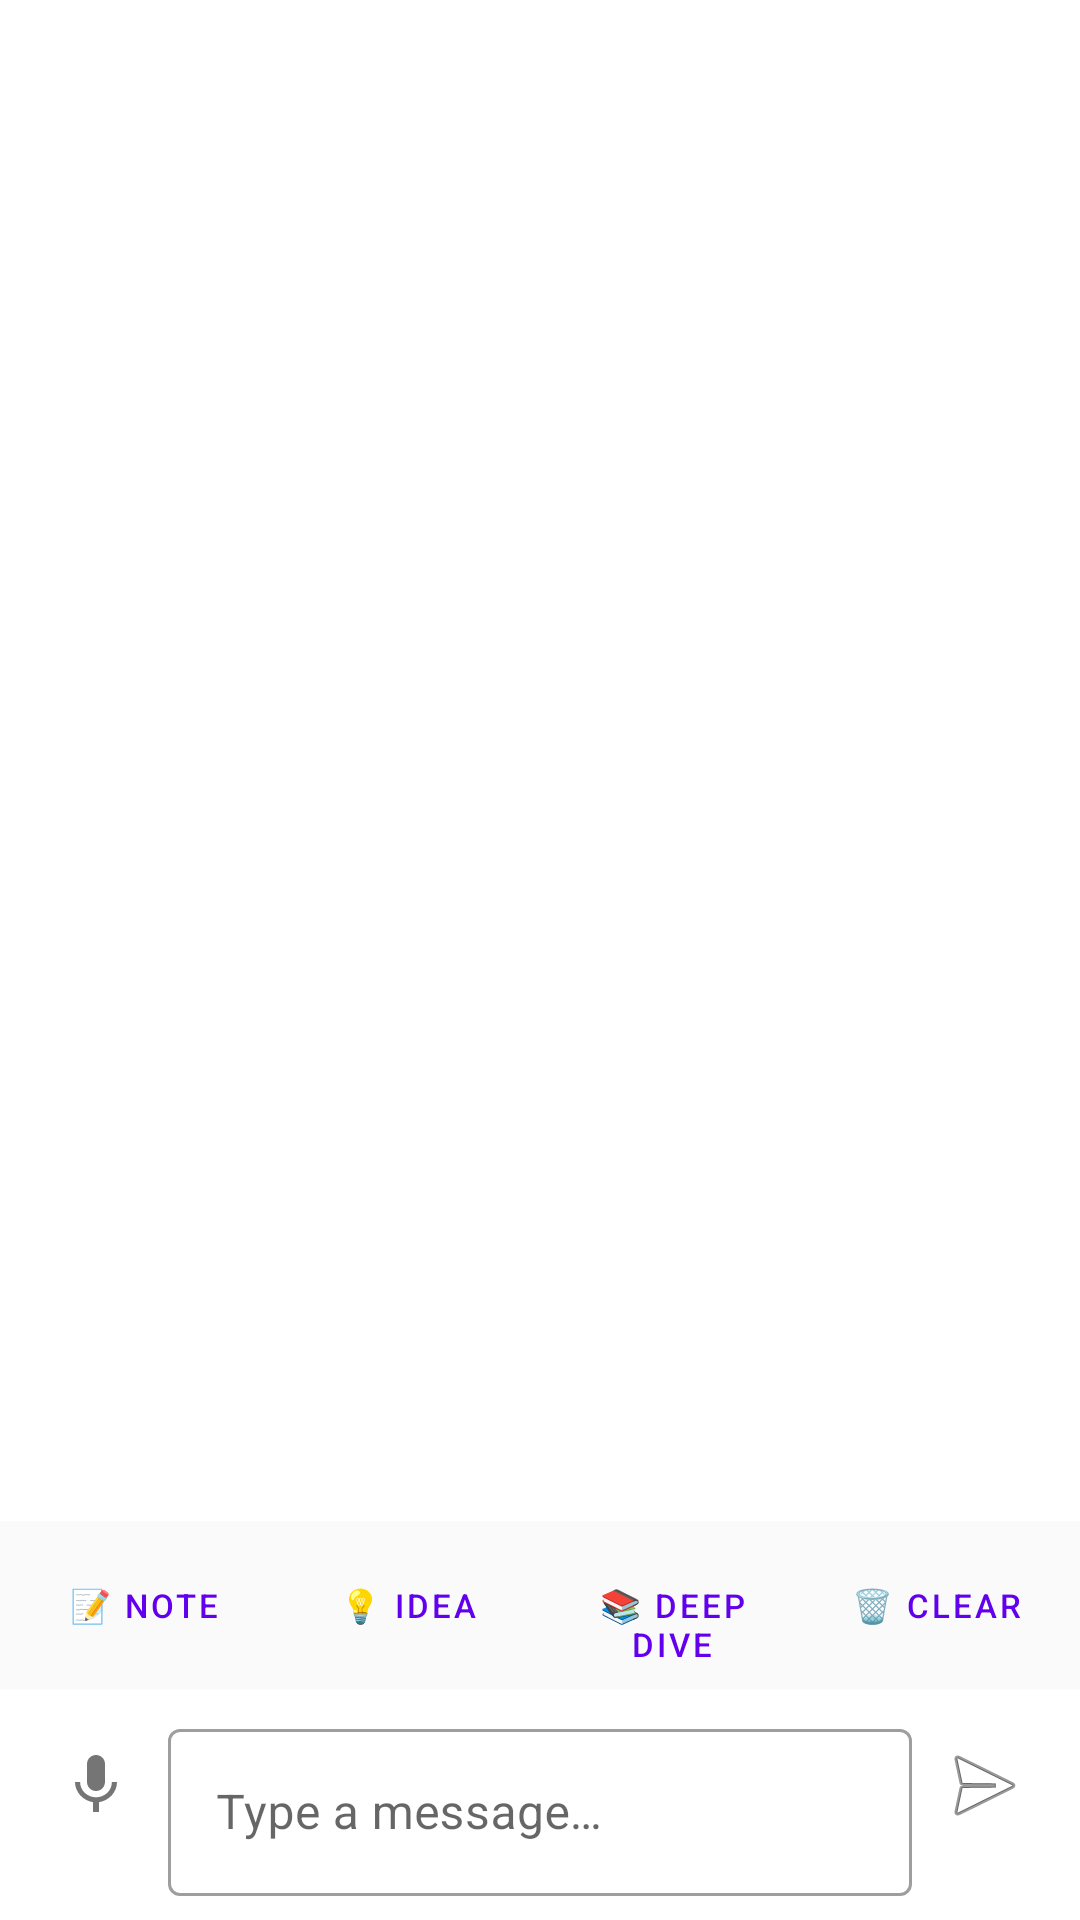

Icon bounding boxes for this 1080 × 1920 phone screenshot, format (x1, y1, x2, y2):
Send: (954, 1755, 1016, 1816)
Voice input: (75, 1755, 117, 1812)
